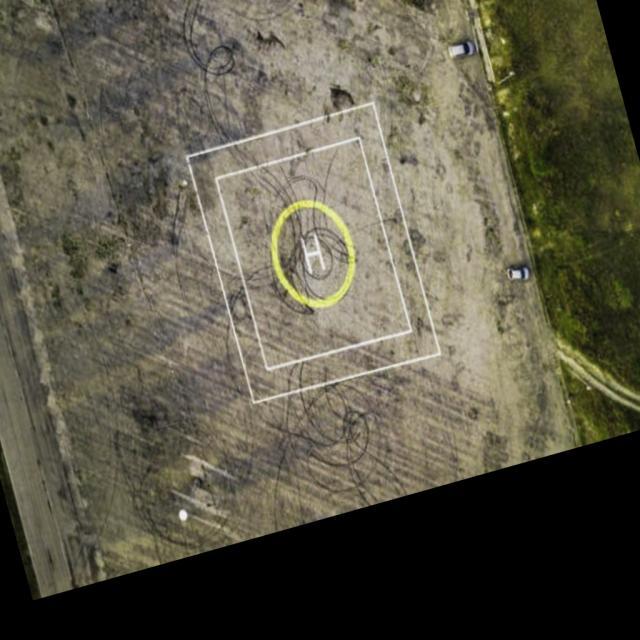helipad: (267, 197, 357, 309)
